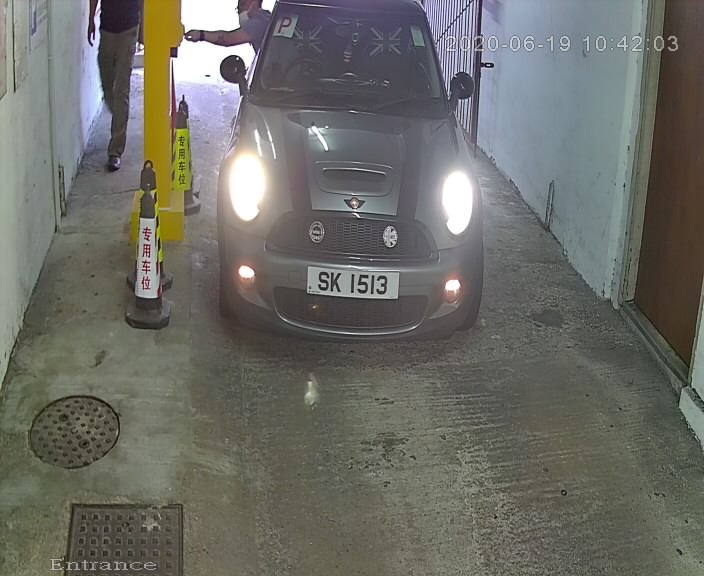privatecar: (205, 3, 485, 356)
